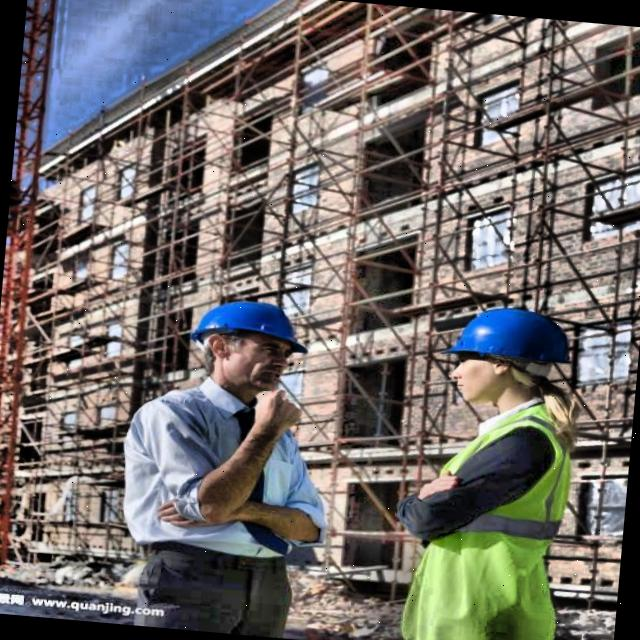helmet: (430, 292, 570, 430), (172, 276, 314, 404)
